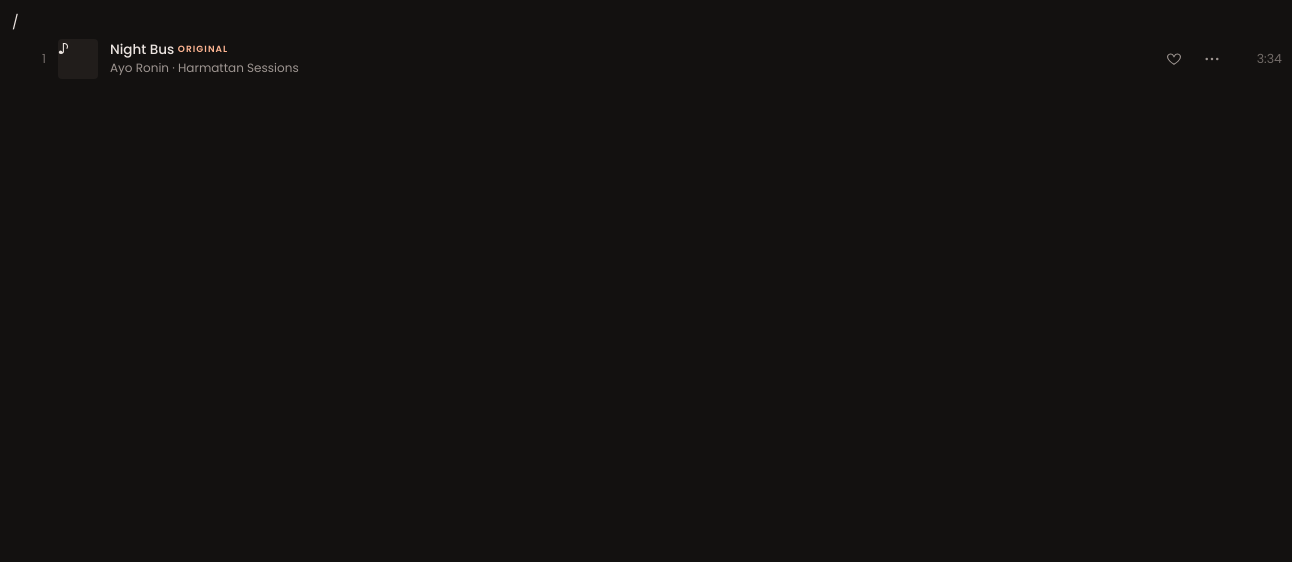
Test case: contextual state › flips Like to Unlike through the real auth store
Right-click the element with class "track-row": (78, 59) [12,33,1291,85]
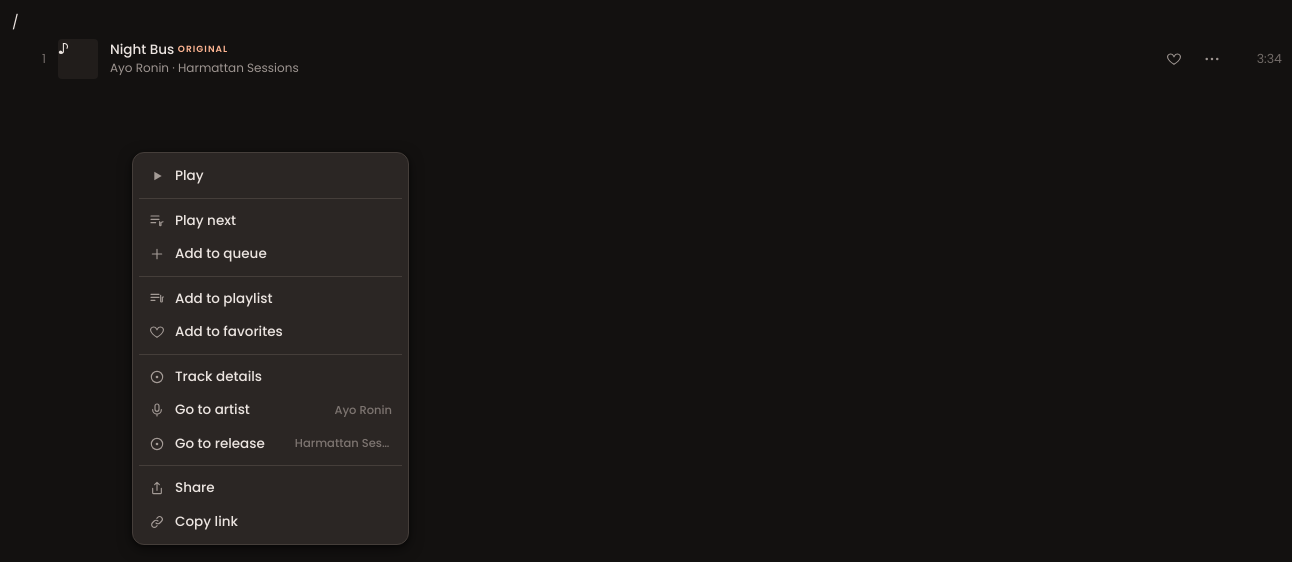
Click the menu item "Add to favorites": (270, 332) [139,315,402,349]
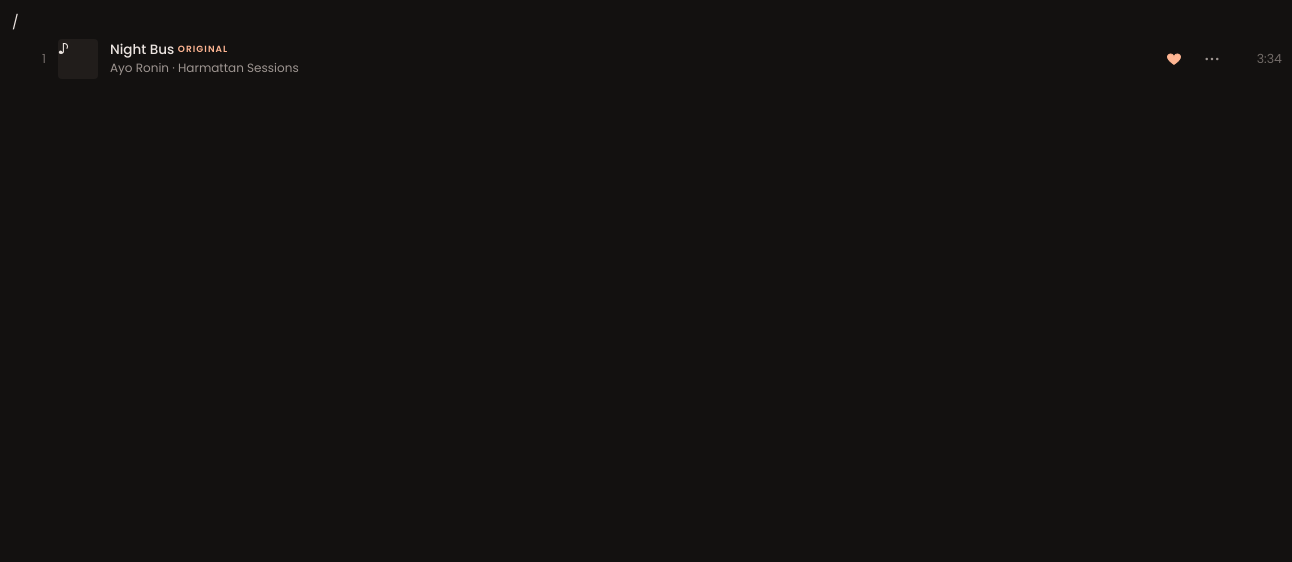
Right-click the element with class "track-row": (78, 59) [12,33,1291,85]
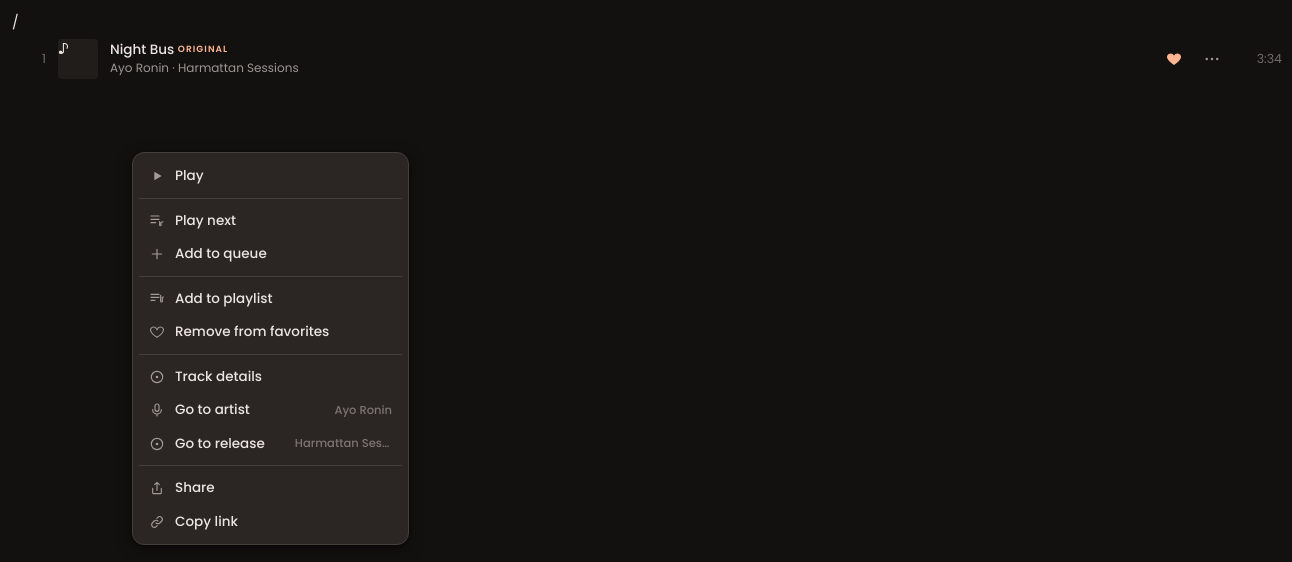
Expected: the text "Remove from favorites" is shown, [175,322,329,341]
